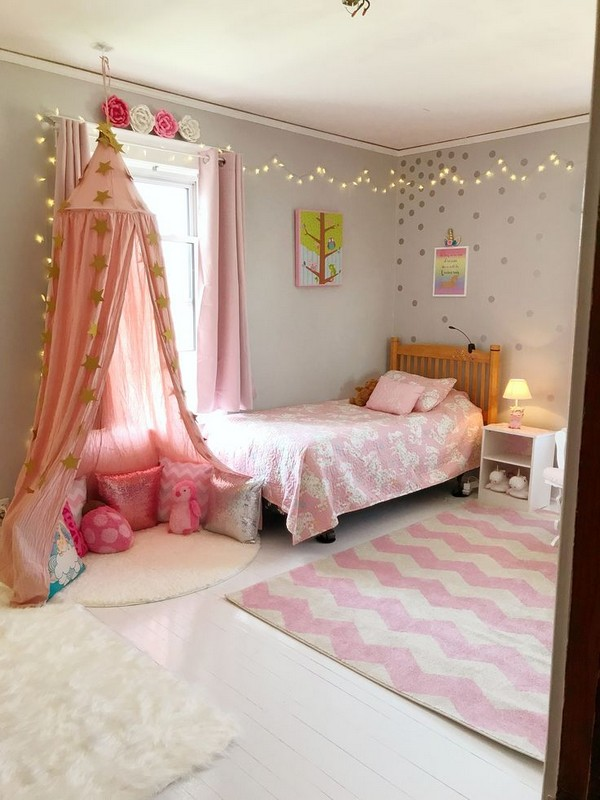bed: (201, 332, 501, 554)
lamp: (496, 373, 541, 438)
stool: (477, 419, 558, 527)
